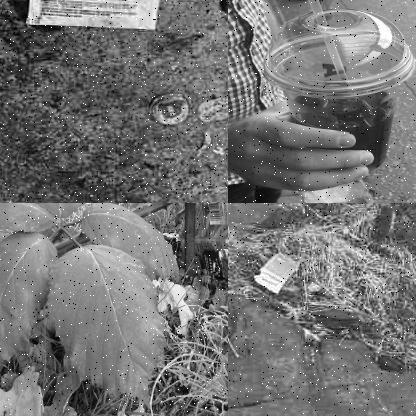cardboard: (252, 247, 300, 296)
plastic: (271, 0, 415, 124), (30, 0, 161, 38), (175, 203, 227, 284), (150, 89, 192, 128)
